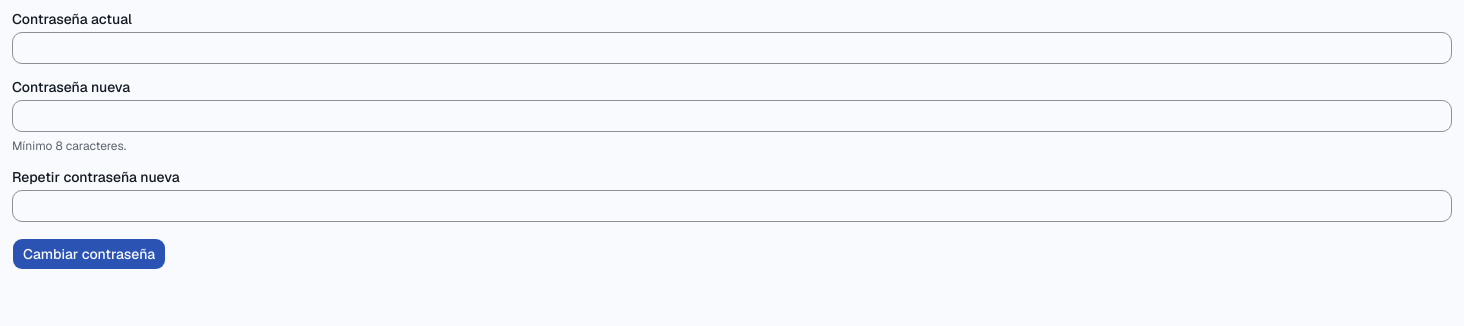
Test: FormularioContrasena › rechaza contraseñas nuevas que no coinciden
Type "actual123" into the password field labelled "Contraseña actual". click: (732, 48)
box: [12,32,1452,64]
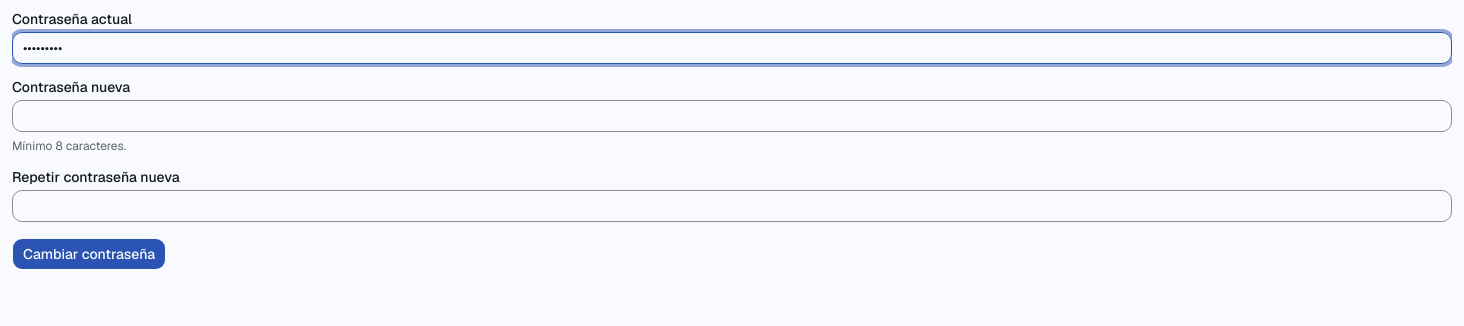
Type "nuevaClave123" into the password field labelled "Contraseña nueva". click: (732, 116)
box: [12,100,1452,132]
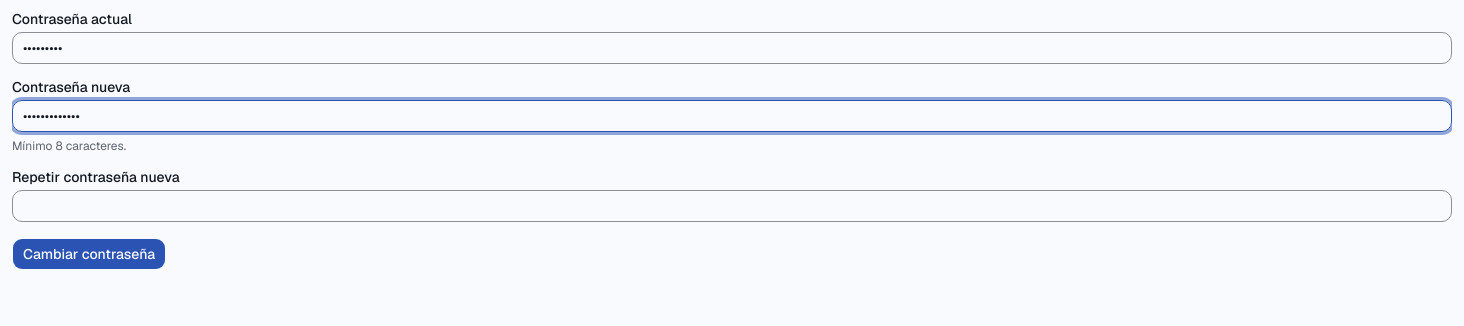
Type "otraClave123" into the password field labelled "Repetir contraseña nueva". click: (732, 206)
box: [12,190,1452,222]
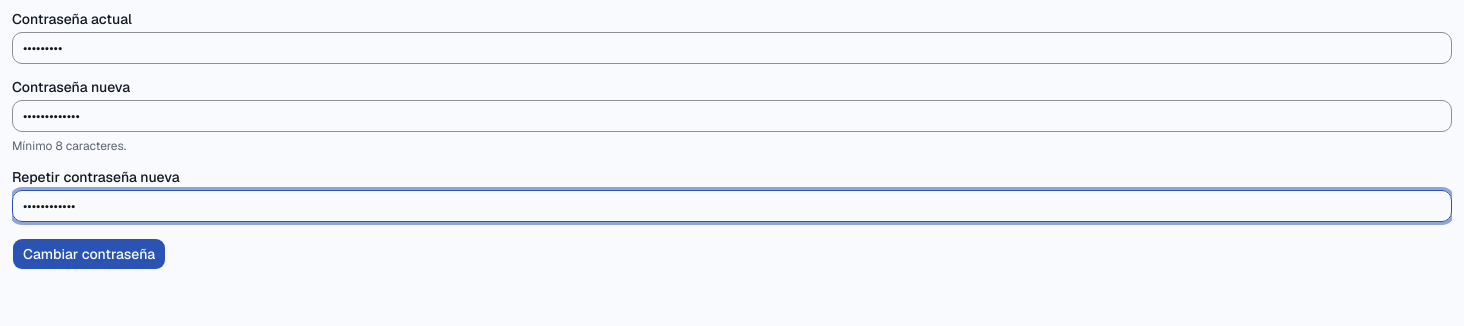
Click the button "Cambiar contraseña". click: (89, 254)
box: [12,238,166,270]
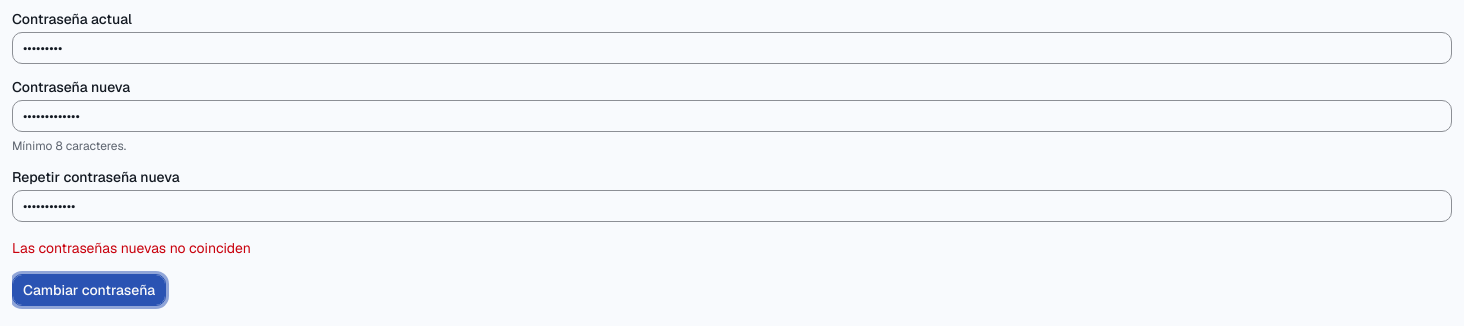
expect the message shows "no coinciden": met, box [12,239,251,257]
